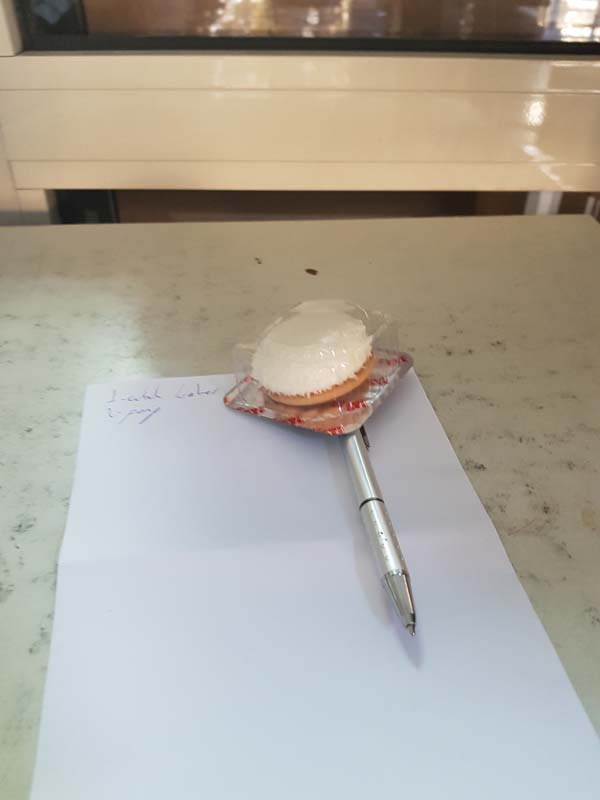etipuf: (229, 287, 407, 429)
